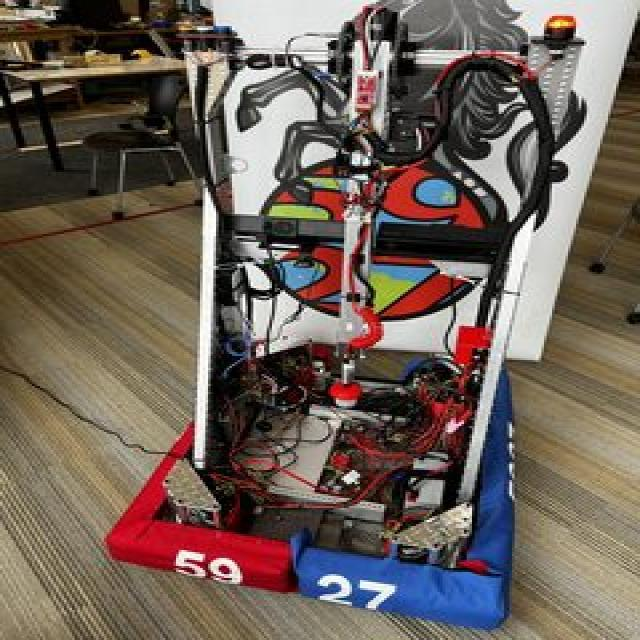robot: (98, 0, 584, 632)
